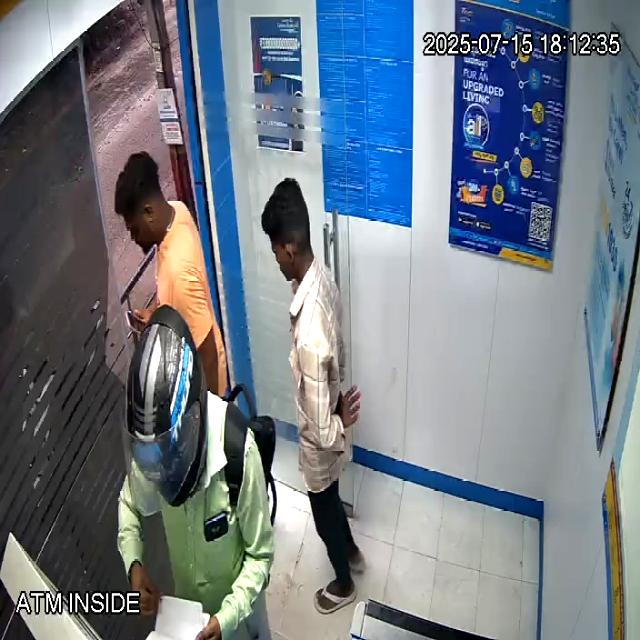helmet: (123, 305, 208, 516)
no_helmet: (113, 149, 173, 254), (261, 177, 314, 284)
